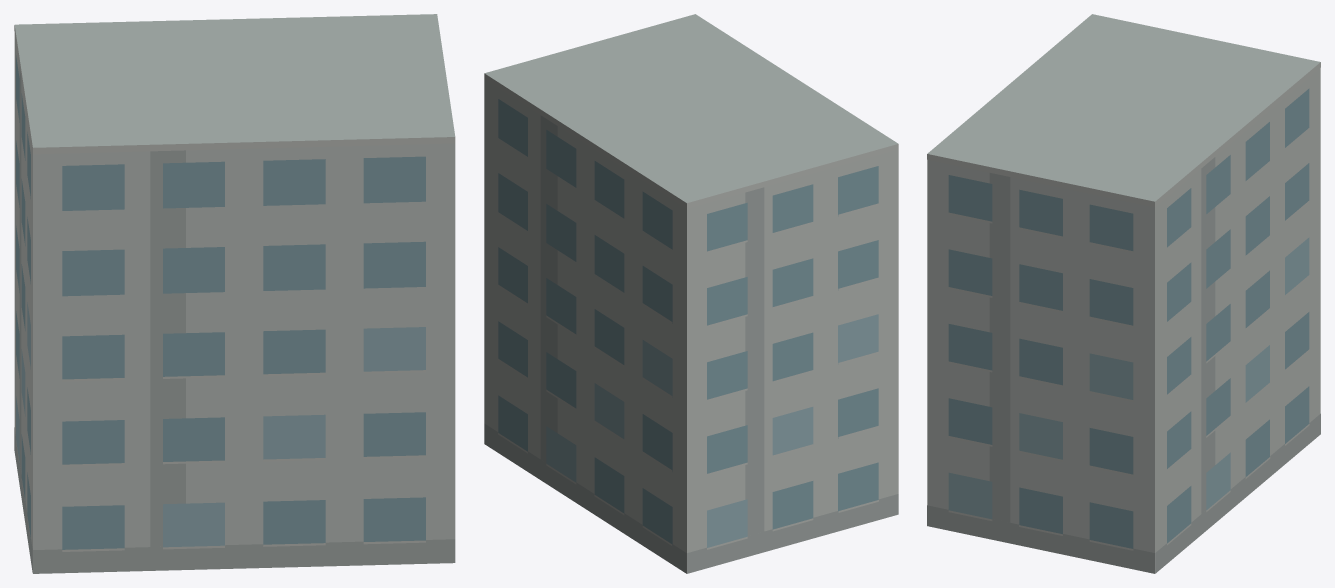
Rendered from survey-upis-32844504.glb.
The picture shows the model from 3 angles, left to right: view 1: azimuth 30°, elevation 25°; view 2: azimuth 150°, elevation 25°; view 3: azimuth 270°, elevation 25°; orthographic projection. The views are drawn at different scales.
Visible parts, largest first — view 1: survey-upis-32844504.tmp; view 2: survey-upis-32844504.tmp; view 3: survey-upis-32844504.tmp.
Part boxes in pixels (x1,y1,x2,y2): survey-upis-32844504.tmp: [14, 14, 455, 573]; survey-upis-32844504.tmp: [484, 14, 898, 573]; survey-upis-32844504.tmp: [927, 14, 1320, 573].
Bounding box in the file's own units: 17.1 × 15.8 × 15.15.
